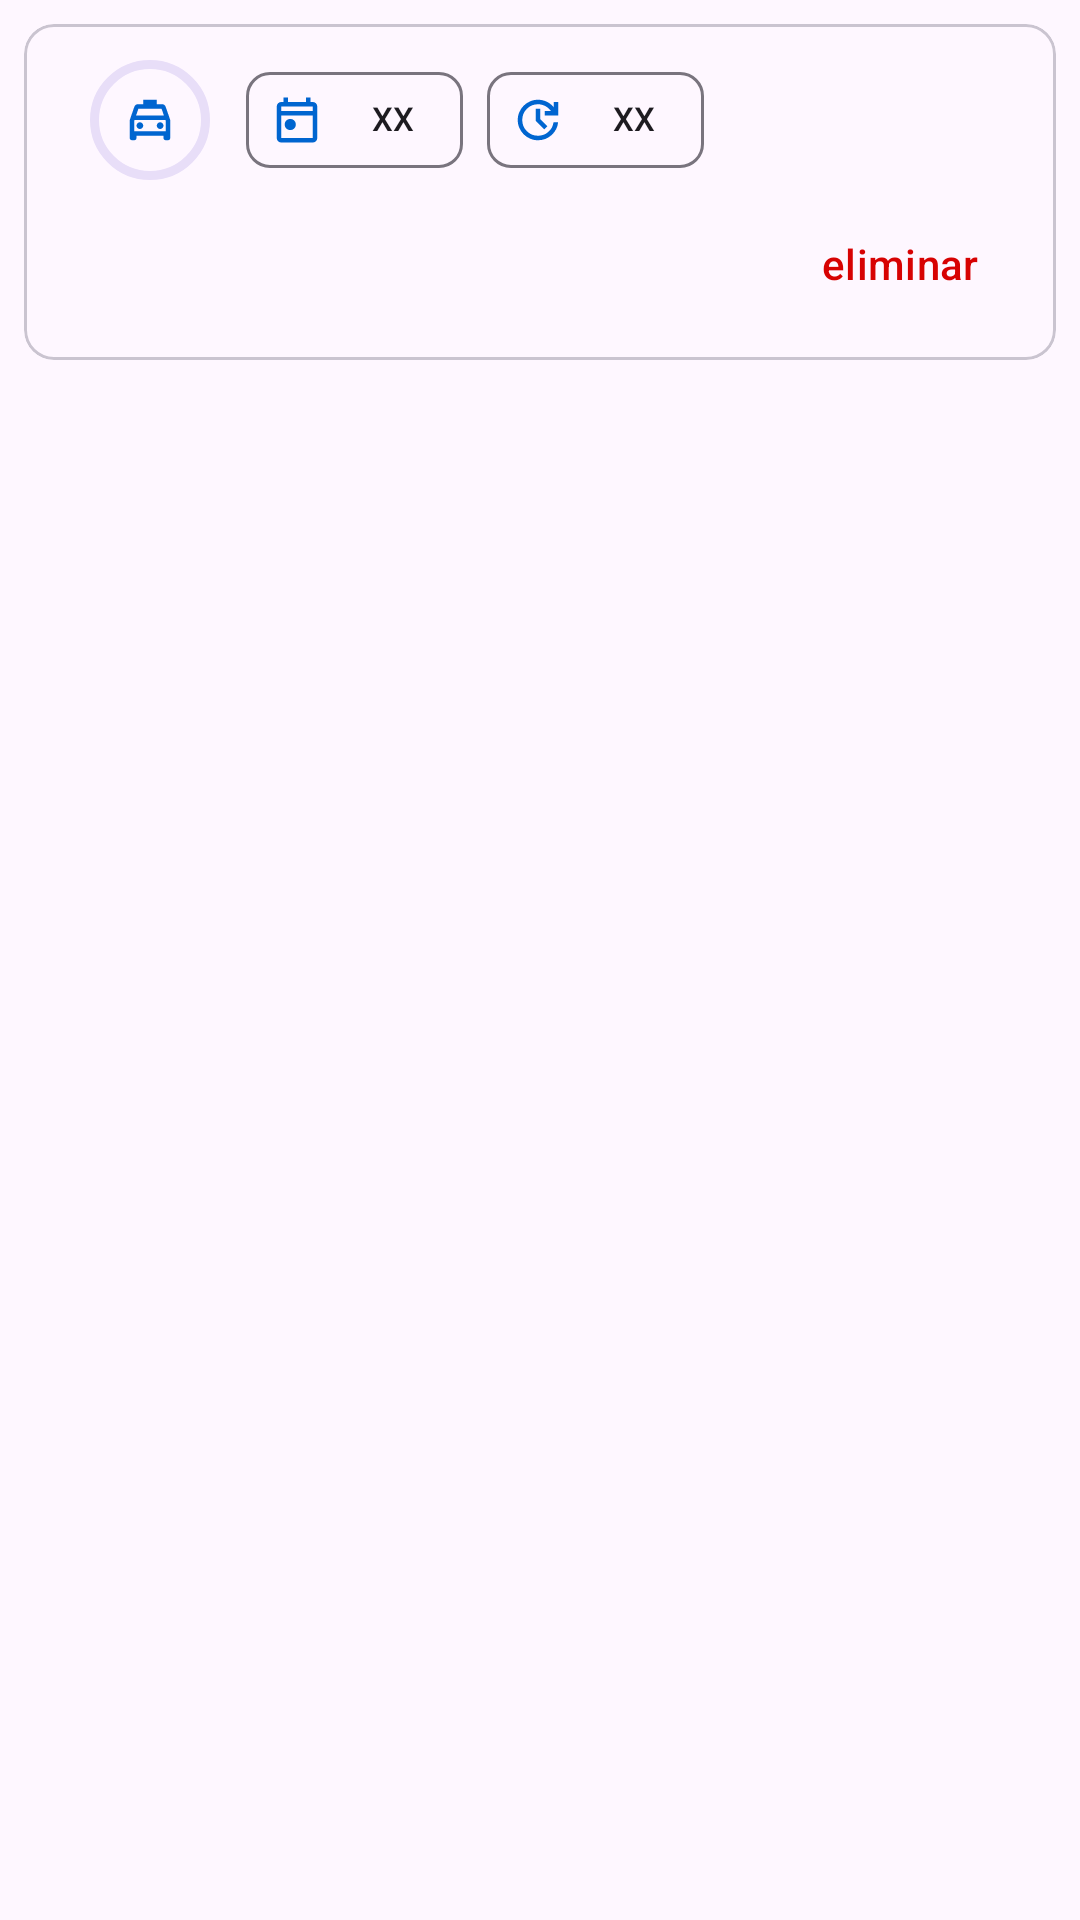

Icons on this 1080 × 1920 Android screen, each with its box as [x1, y1, x2, y2]:
auto: [129, 99, 171, 141]
